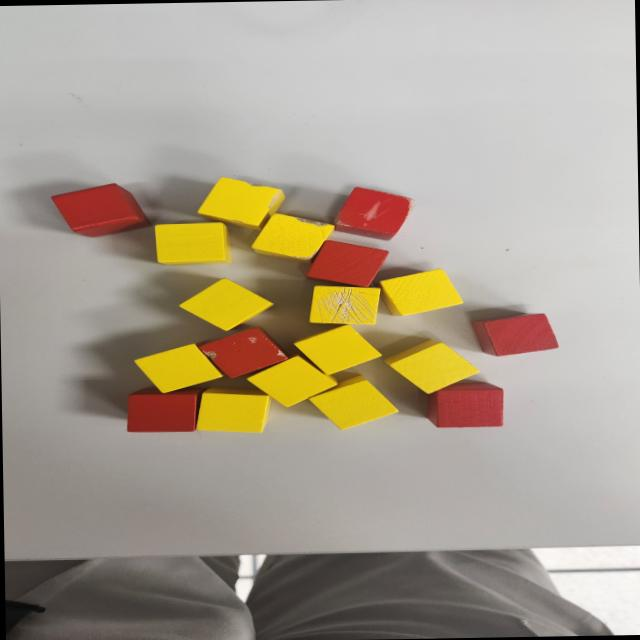broken: (50, 183, 147, 238), (195, 176, 288, 232), (198, 326, 286, 380), (333, 186, 417, 242), (249, 212, 337, 260), (309, 282, 381, 324)
red: (306, 240, 388, 287), (472, 313, 560, 354), (428, 382, 506, 427), (124, 390, 200, 432)
yellow: (382, 338, 480, 394), (178, 276, 274, 332), (308, 375, 398, 431), (248, 354, 340, 408), (292, 324, 382, 376), (133, 343, 222, 393), (378, 268, 463, 316), (154, 221, 232, 264), (193, 390, 270, 433)
